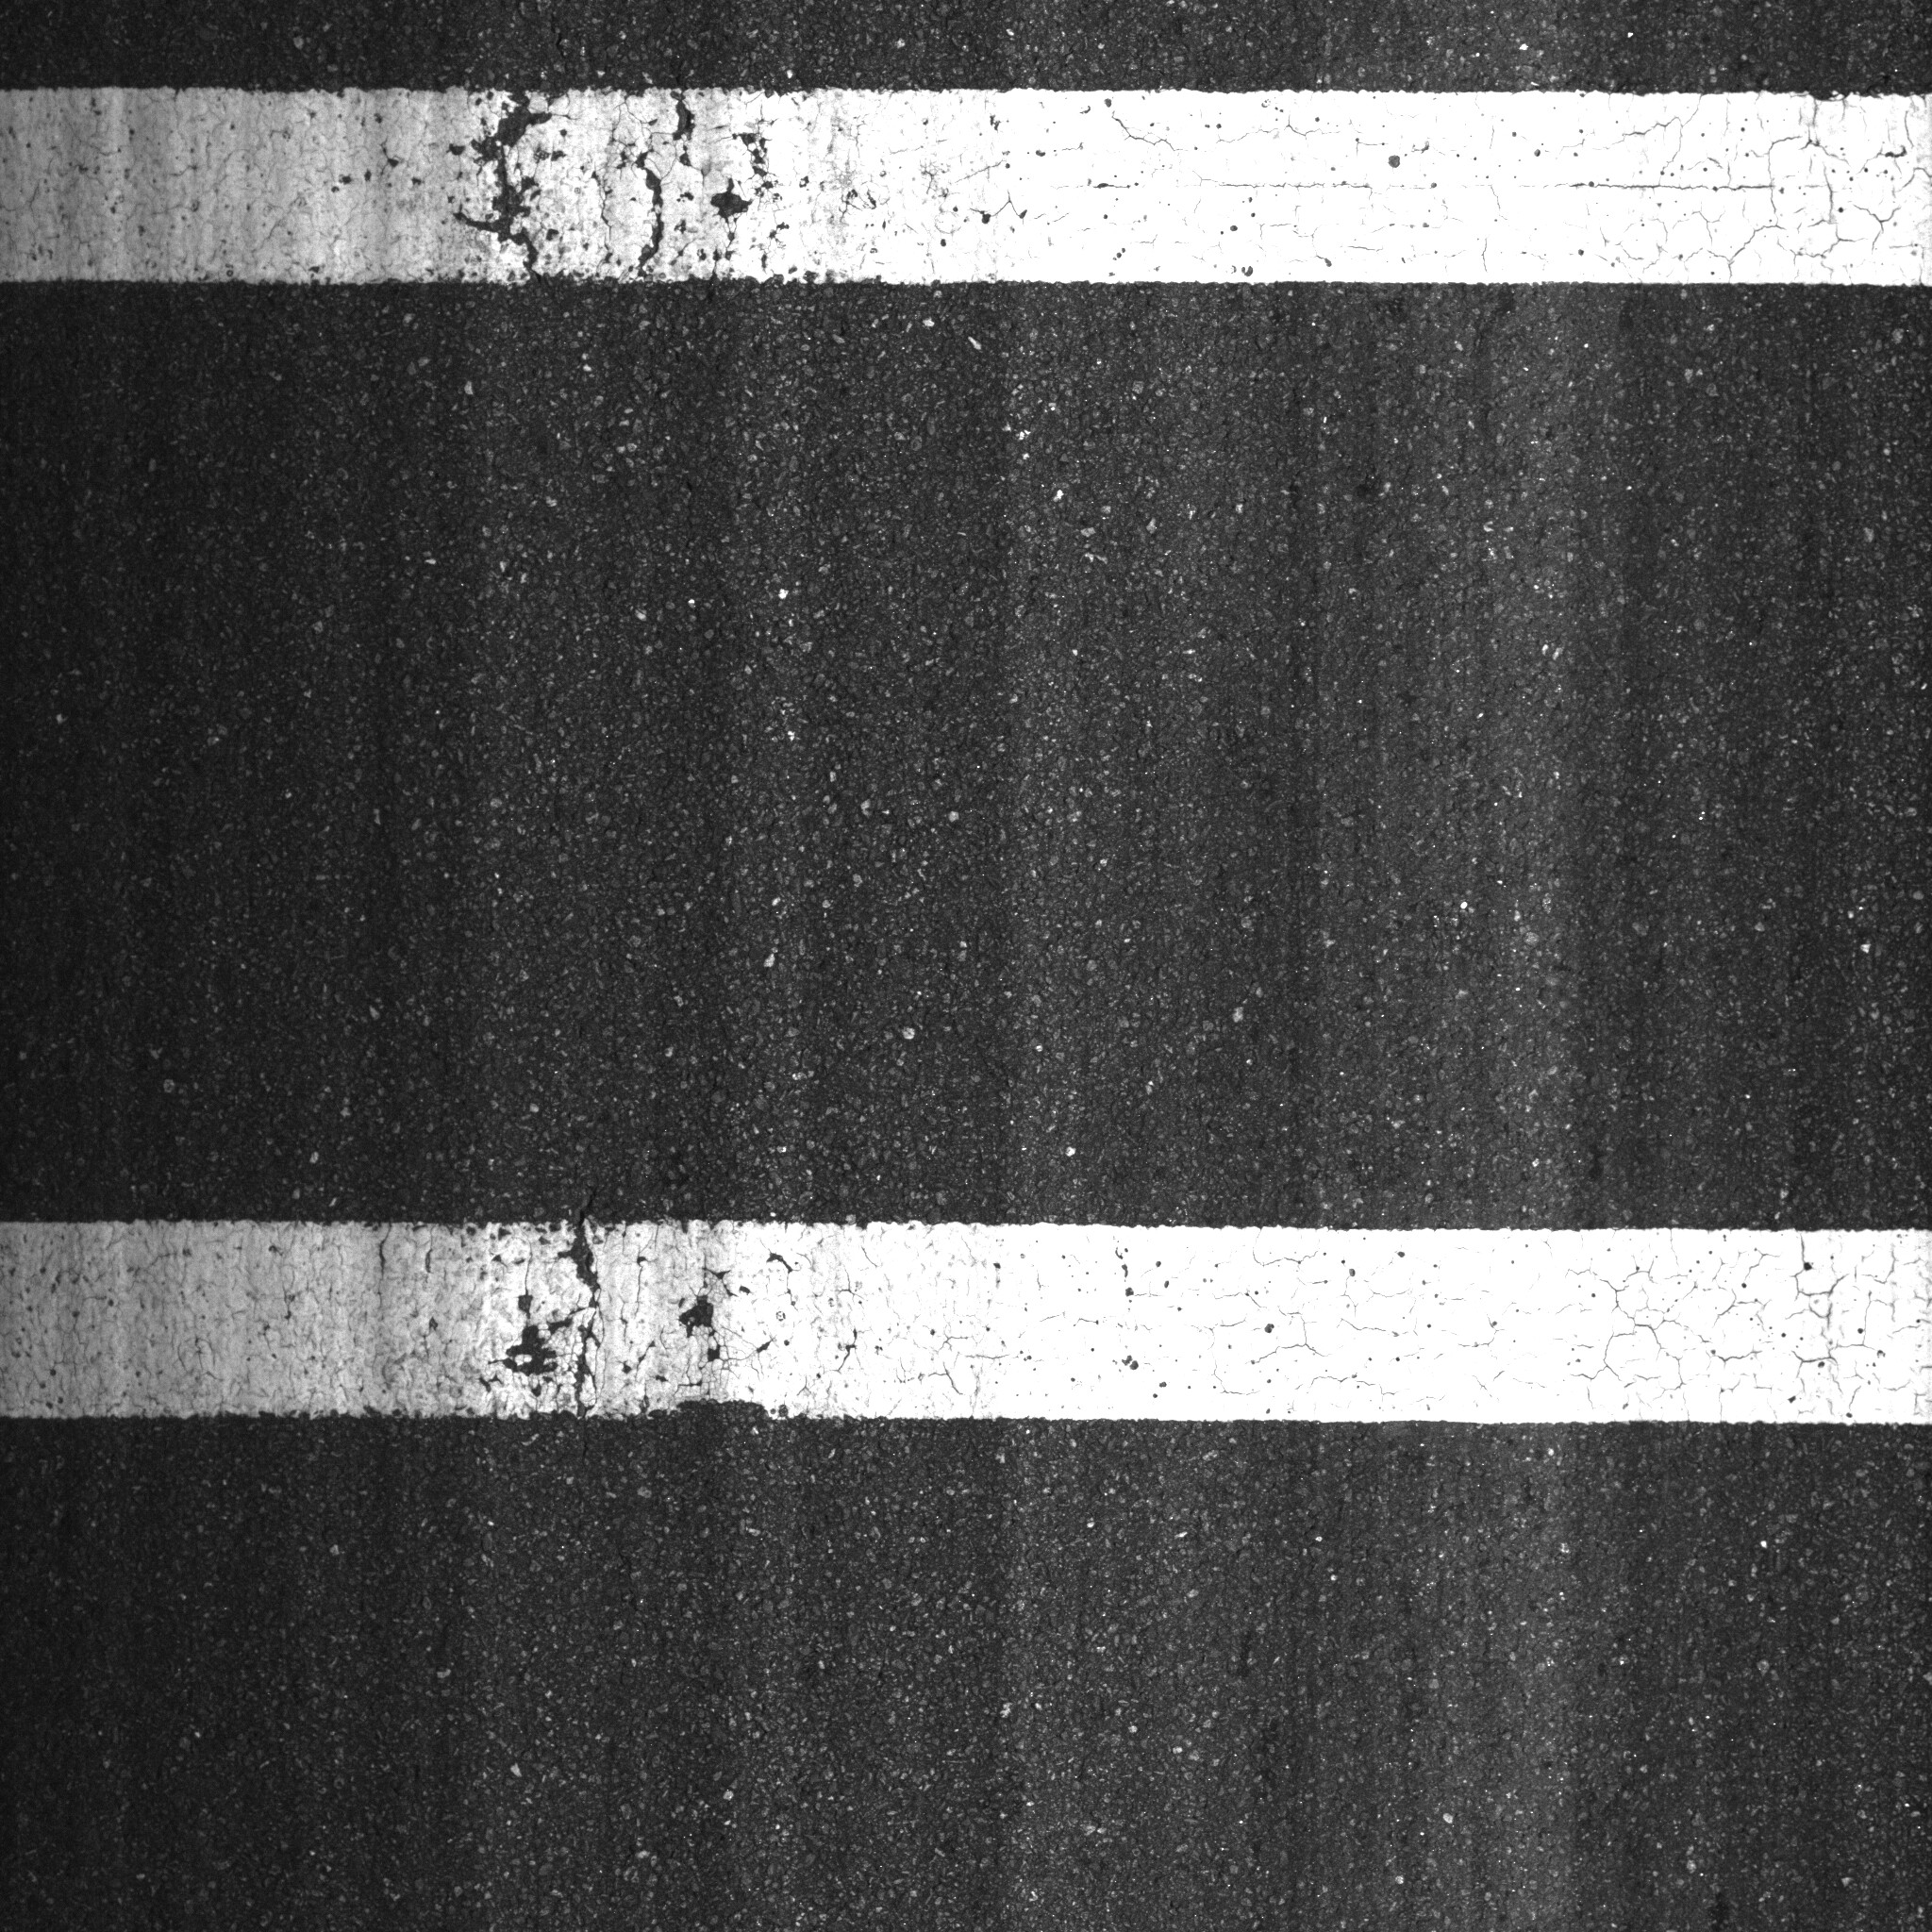longitudinal: (518, 1092, 660, 1663)
